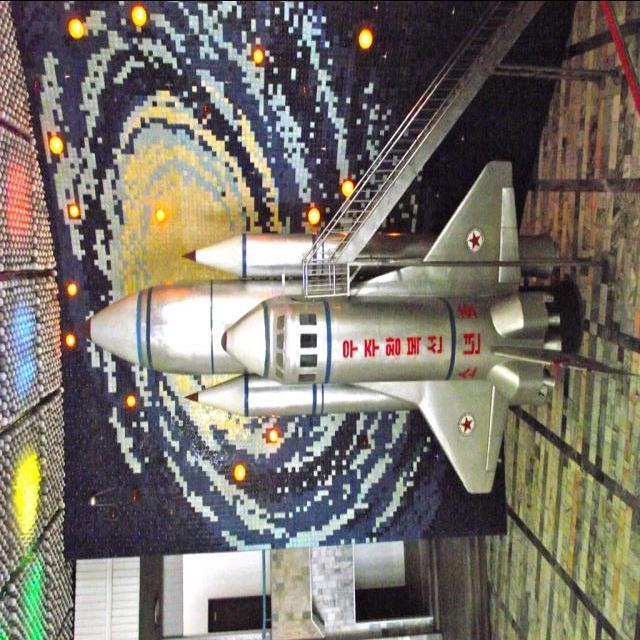Missile: (224, 292, 557, 389), (175, 375, 409, 425), (172, 229, 322, 277)
